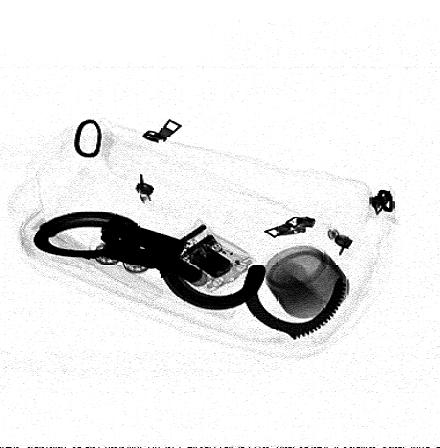HandCuffs: (33, 211, 347, 340)
